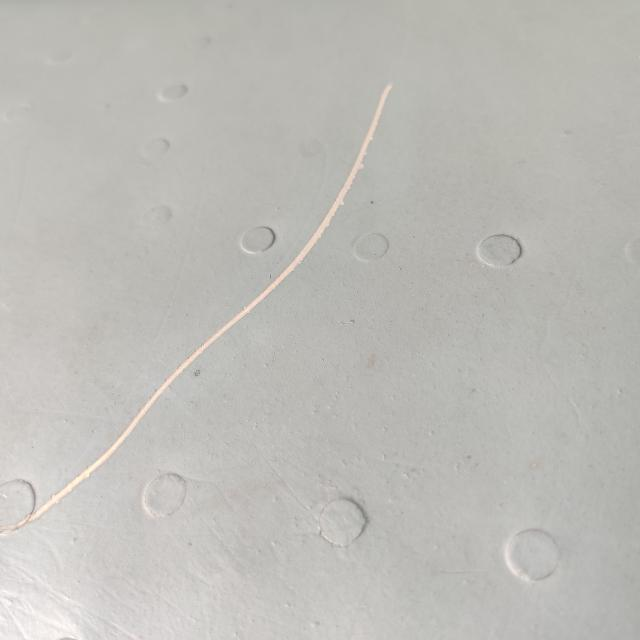scratch: (6, 62, 416, 538)
